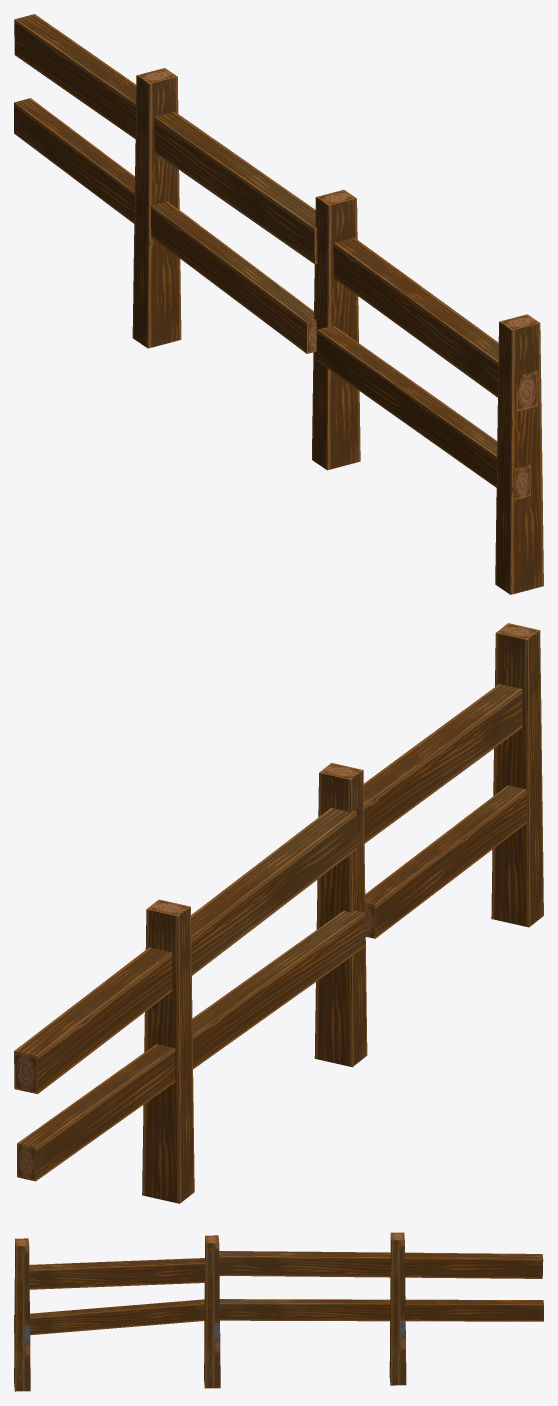
3 renders of one model, top to bottom at view 1: azimuth 30°, elevation 25°; view 2: azimuth 150°, elevation 25°; view 3: azimuth 270°, elevation 25°, orthographic. The views are drawn at different scales.
Visible parts, largest first — view 1: Cube.011; view 2: Cube.011; view 3: Cube.011.
Part boxes in pixels (<box>): Cube.011: <box>14,14,543,594</box>; Cube.011: <box>14,623,543,1203</box>; Cube.011: <box>14,1232,543,1391</box>.
Bounding box in the file's own units: 32.92 × 150 × 497.
1 material, 1 textured.
